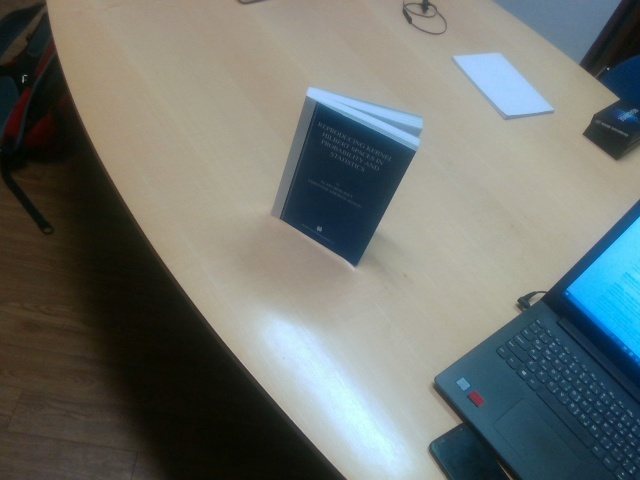book: (269, 87, 423, 270)
